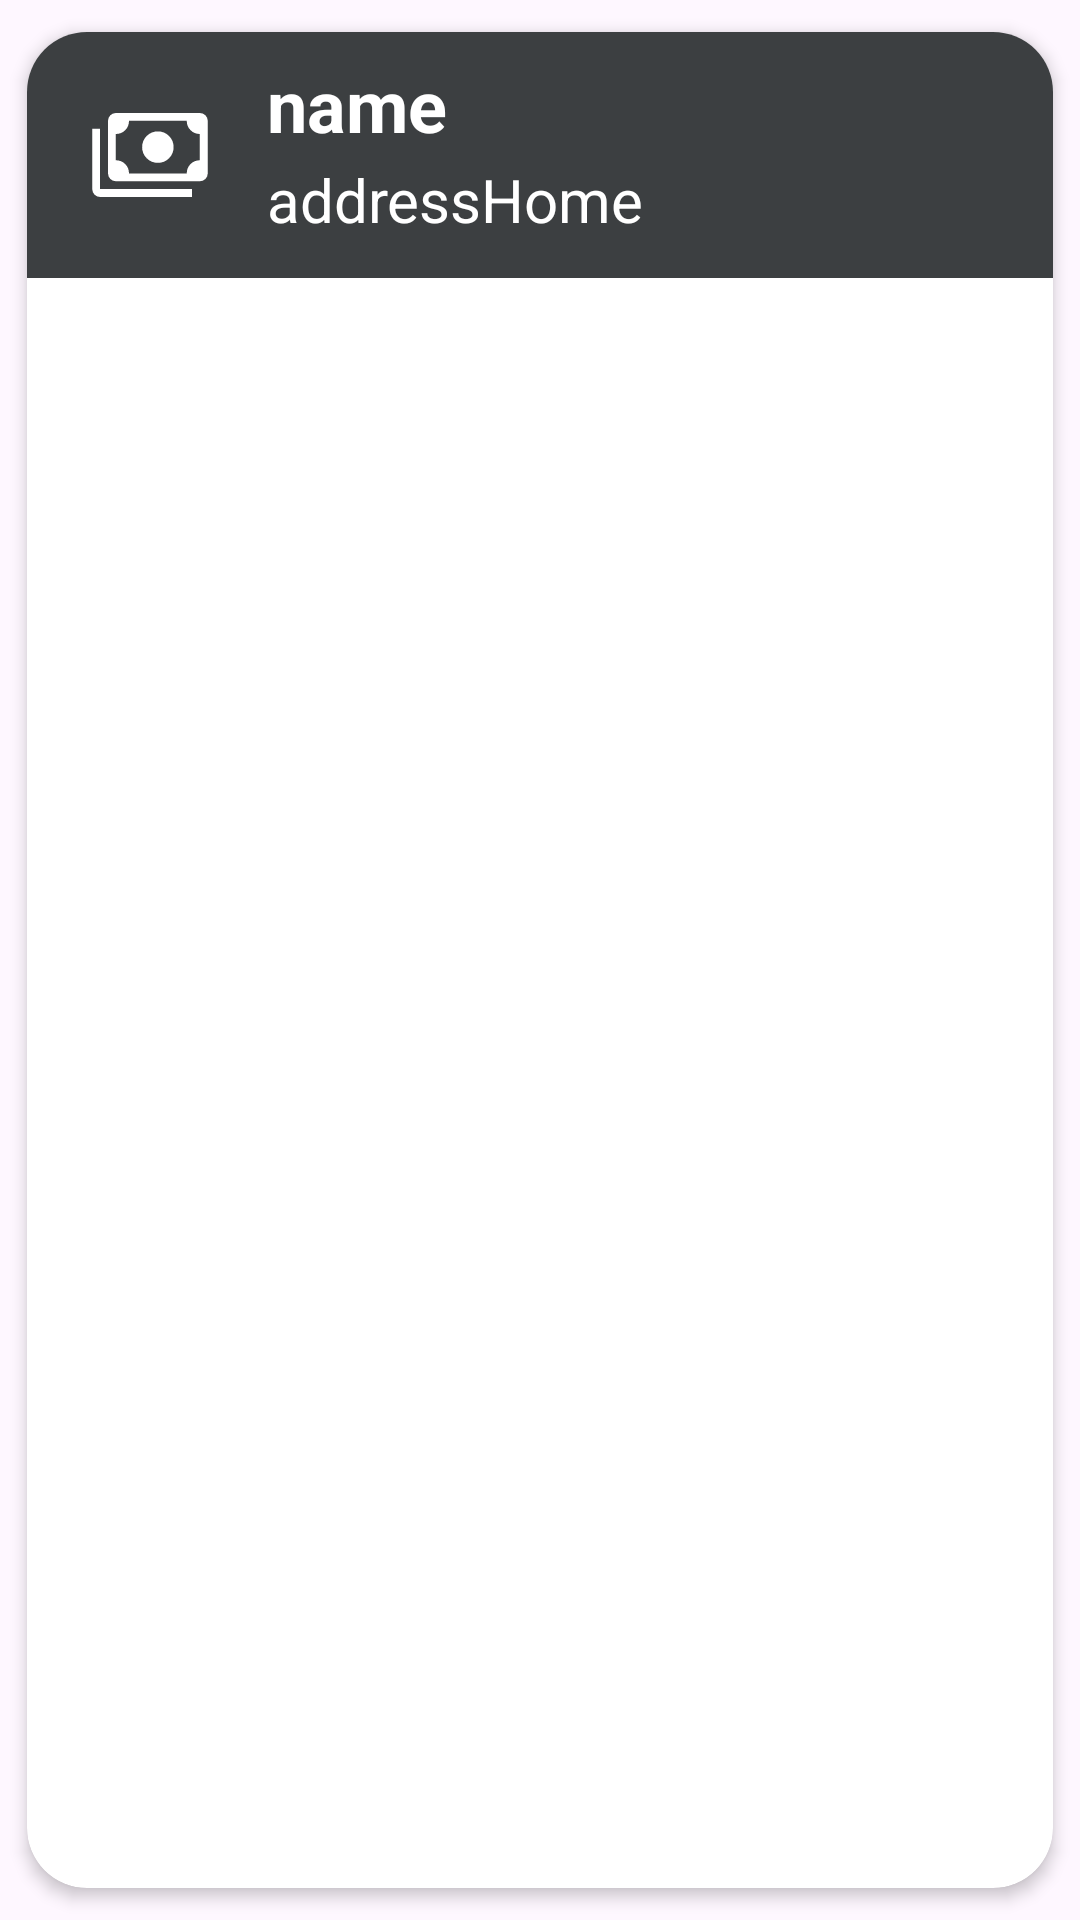

Screen size 1080 × 1920. Icon name, then its center in pixels as [x,y]:
payments: [150,155]
